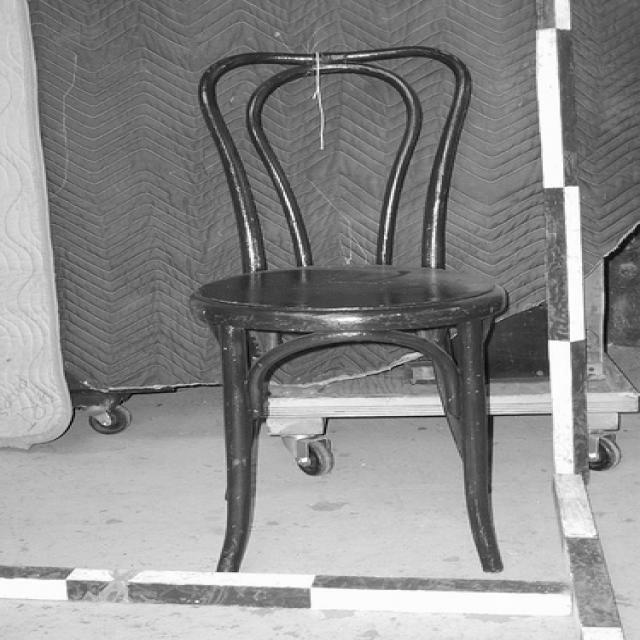chair: (189, 44, 509, 576)
